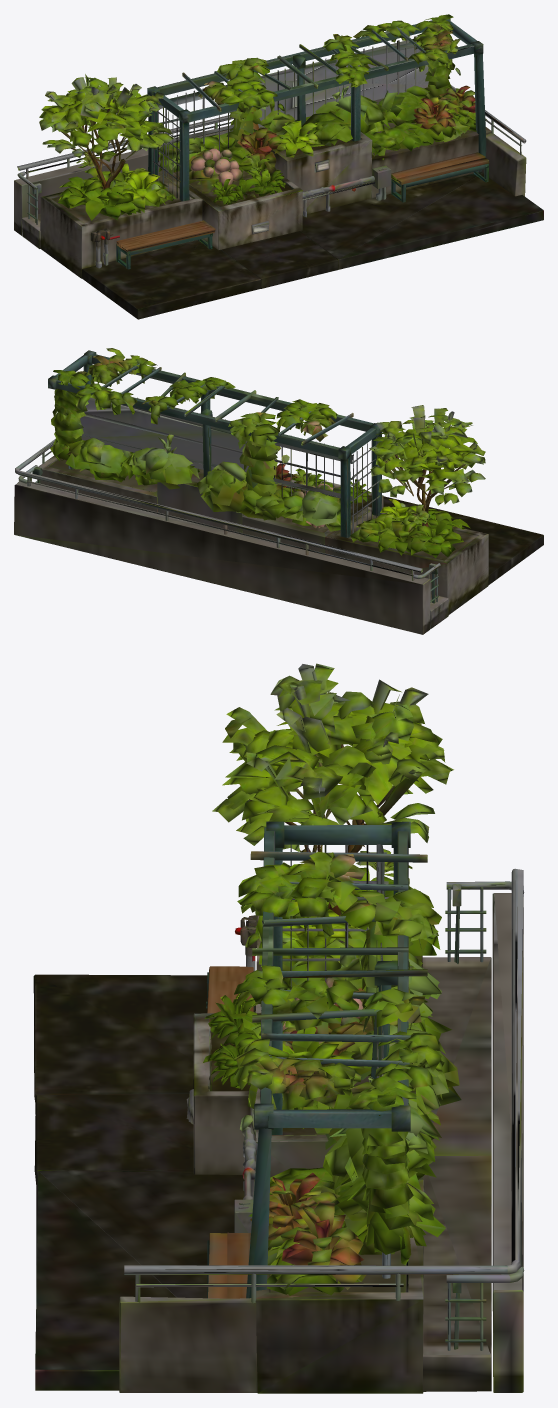
Rendered from garden.glb.
The picture shows the model from 3 angles, top to bottom: view 1: azimuth 30°, elevation 25°; view 2: azimuth 150°, elevation 25°; view 3: azimuth 270°, elevation 25°; orthographic projection. The views are drawn at different scales.
Visible parts, largest first — view 1: garden; view 2: garden; view 3: garden.
Boxes of the visible parts, box(x1,y1,x2,y2) form: garden: box(14, 14, 543, 319); garden: box(14, 348, 543, 634); garden: box(33, 663, 524, 1393).
Bounding box in the file's own units: 9 × 3.58 × 4.5.
1 material, 1 textured.
